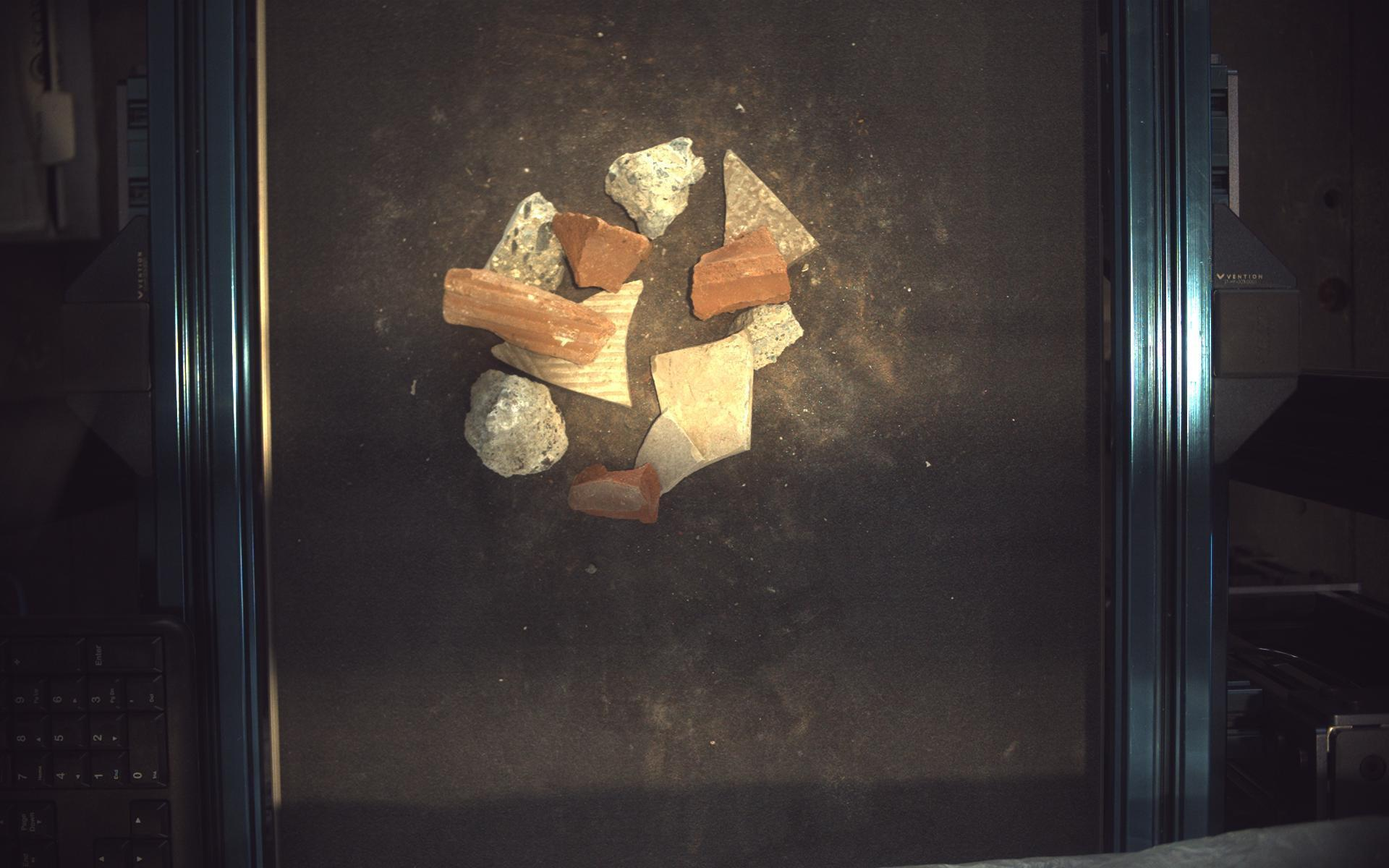brick: (441, 265, 614, 362), (690, 223, 790, 318), (551, 210, 651, 289), (567, 462, 660, 522)
concrete: (462, 367, 566, 475), (604, 135, 705, 237), (483, 189, 564, 289), (731, 300, 803, 367)
tile: (490, 278, 642, 404), (653, 333, 755, 461), (723, 146, 817, 263), (634, 407, 707, 491)
